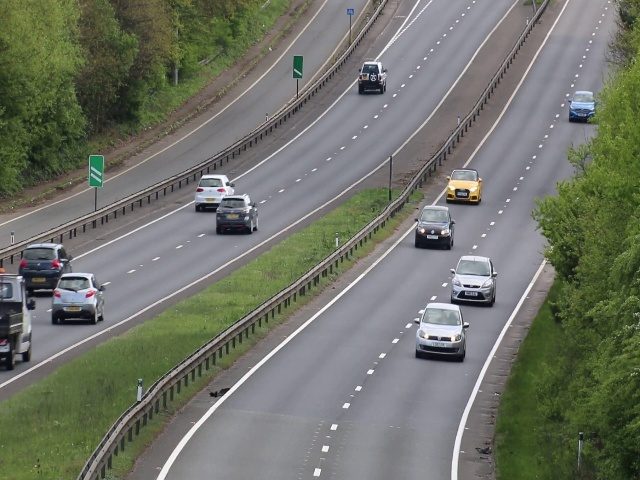car: (1, 276, 36, 369), (416, 301, 467, 364), (51, 272, 106, 325), (450, 255, 499, 307), (19, 243, 59, 293), (215, 193, 261, 236), (414, 204, 454, 250), (445, 168, 483, 207), (355, 59, 388, 94), (194, 173, 223, 211), (568, 89, 595, 123)
